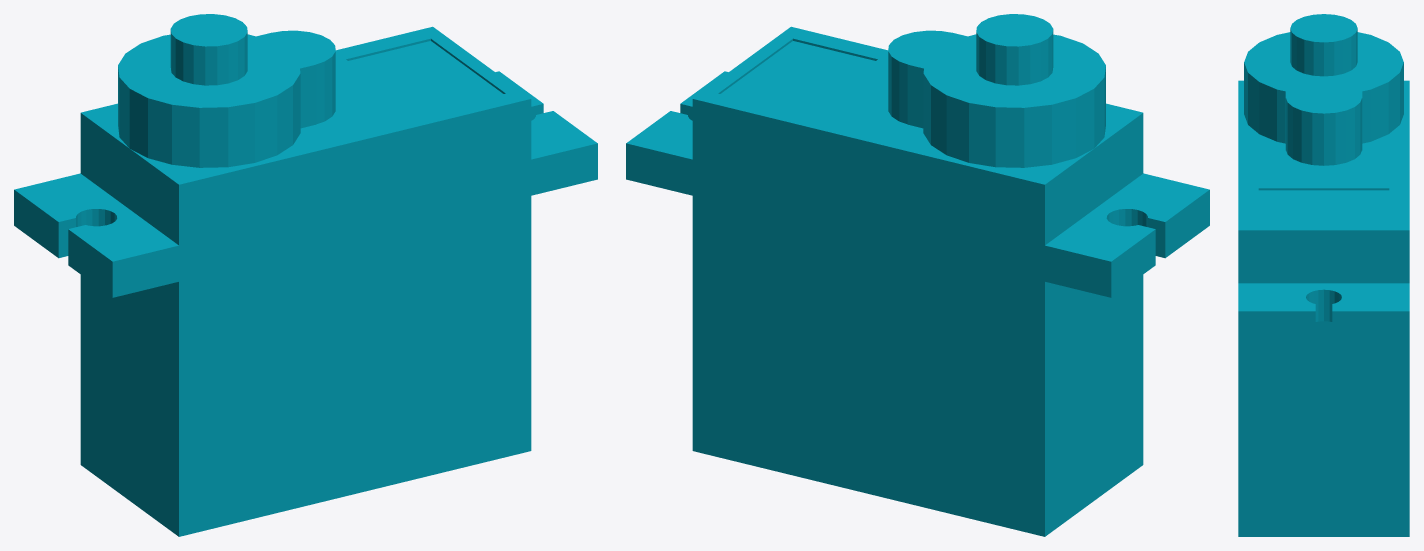
Rendered from something.glb.
3 views of the same model, side by side, from view 1: azimuth 30°, elevation 25°; view 2: azimuth 150°, elevation 25°; view 3: azimuth 270°, elevation 25° (orthographic). The views are drawn at different scales.
Visible parts, largest first — view 1: Mesh_Mesh_head_geo.001_lambert2SG.001; view 2: Mesh_Mesh_head_geo.001_lambert2SG.001; view 3: Mesh_Mesh_head_geo.001_lambert2SG.001.
Part boxes in pixels (x1=…): Mesh_Mesh_head_geo.001_lambert2SG.001: x1=14, y1=14, x2=597, y2=536; Mesh_Mesh_head_geo.001_lambert2SG.001: x1=626, y1=14, x2=1209, y2=536; Mesh_Mesh_head_geo.001_lambert2SG.001: x1=1238, y1=14, x2=1409, y2=536.
Size of the model in its own units: 35.1 by 31.2 by 12.35.
